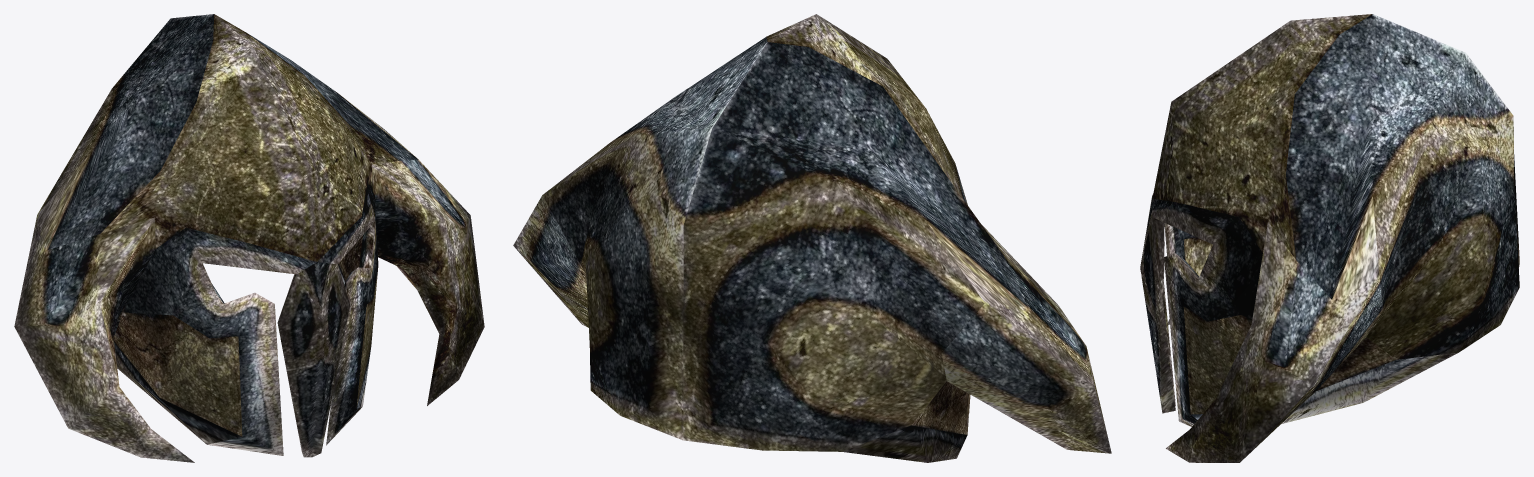
The model's file is WIKING3.glb.
The picture shows the model from 3 angles, left to right: view 1: azimuth 30°, elevation 25°; view 2: azimuth 150°, elevation 25°; view 3: azimuth 270°, elevation 25°; orthographic projection. The views are drawn at different scales.
Parts seen in each view (by area): view 1: Mesh; view 2: Mesh; view 3: Mesh.
Boxes of the visible parts, bbox=[...] form: Mesh: bbox=[14, 14, 484, 462]; Mesh: bbox=[513, 14, 1111, 462]; Mesh: bbox=[1140, 14, 1519, 462].
Size of the model in its own units: 0.4441 by 0.3452 by 0.2991.
1 material, 1 textured.
